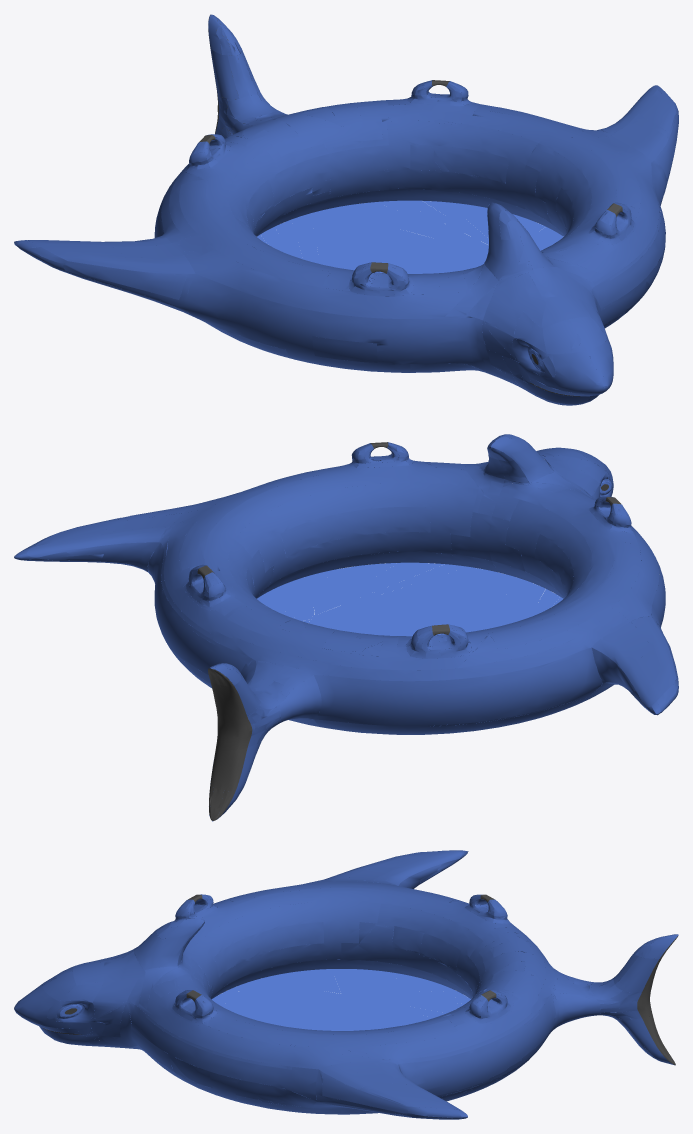
File: shark_floatie.glb
3 views of the same model, one above another, from view 1: azimuth 30°, elevation 25°; view 2: azimuth 150°, elevation 25°; view 3: azimuth 270°, elevation 25° (orthographic). The views are drawn at different scales.
Visible parts, largest first — view 1: Torus_Blue Plastic_0.002, Torus_Blue Plastic_0.001, Torus, Torus_Blue Plastic_0.003; view 2: Torus_Blue Plastic_0.002, Torus, Torus_Blue Plastic_0.001, Torus_Blue Plastic_0.003; view 3: Torus, Torus_Blue Plastic_0.002, Torus_Blue Plastic_0.001, Torus_Blue Plastic_0.003.
Part boxes in pixels (left/top/right/bottom): Torus_Blue Plastic_0.002: left=17, top=105, right=660, bottom=405; Torus_Blue Plastic_0.001: left=32, top=85, right=678, bottom=403; Torus: left=161, top=14, right=678, bottom=404; Torus_Blue Plastic_0.003: left=14, top=14, right=632, bottom=396; Torus_Blue Plastic_0.002: left=147, top=458, right=678, bottom=712; Torus: left=21, top=434, right=620, bottom=821; Torus_Blue Plastic_0.001: left=14, top=447, right=675, bottom=734; Torus_Blue Plastic_0.003: left=162, top=436, right=678, bottom=787; Torus: left=14, top=880, right=678, bottom=1119; Torus_Blue Plastic_0.002: left=54, top=850, right=556, bottom=1114; Torus_Blue Plastic_0.001: left=20, top=858, right=545, bottom=1119; Torus_Blue Plastic_0.003: left=16, top=850, right=677, bottom=1081.
Size of the model in its own units: 3.6 by 0.9266 by 3.8.
